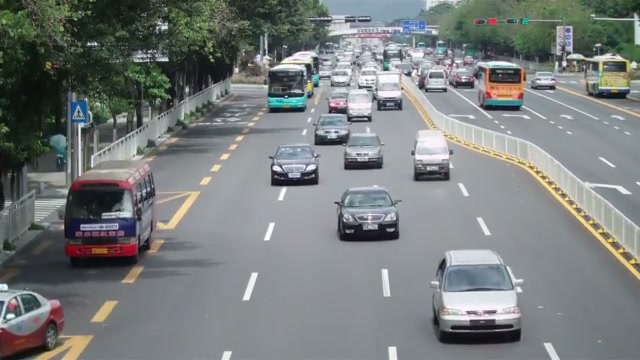bus: (63, 159, 157, 265), (474, 61, 525, 110), (584, 55, 632, 98), (266, 63, 308, 112), (281, 51, 320, 93)
car: (430, 249, 525, 343), (0, 286, 65, 357), (333, 185, 403, 241), (409, 129, 453, 181), (269, 144, 320, 186), (343, 132, 385, 170), (314, 113, 351, 145), (529, 72, 557, 90), (328, 91, 349, 114), (453, 68, 476, 88)
truck: (473, 60, 525, 110), (375, 70, 403, 110)
